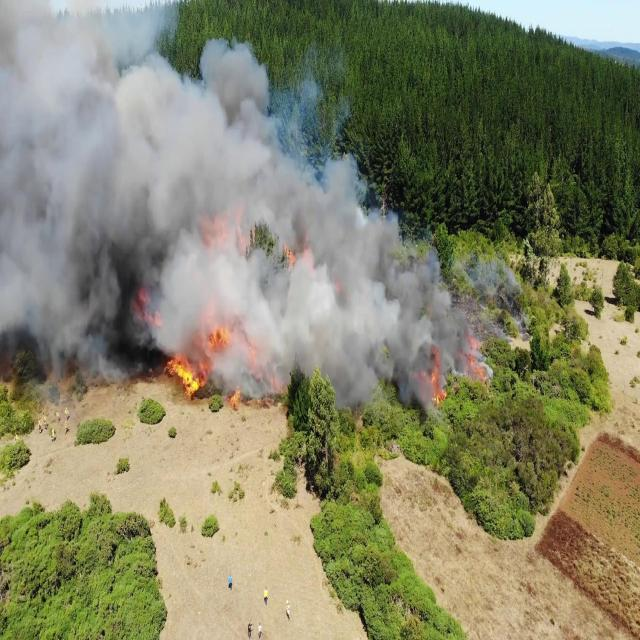Fire: (166, 354, 200, 404)
Smoke: (2, 3, 280, 396), (242, 108, 446, 410)
